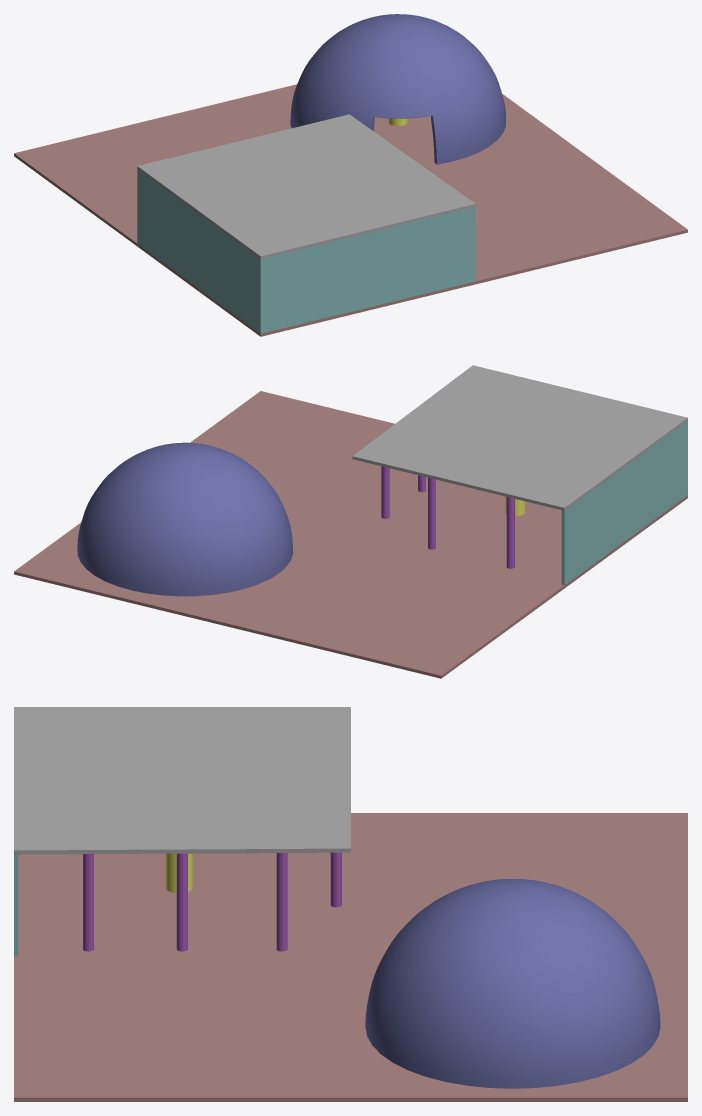
File: MeshTestReflectionProbe.fbx
3 renders of one model, top to bottom at view 1: azimuth 30°, elevation 25°; view 2: azimuth 150°, elevation 25°; view 3: azimuth 270°, elevation 25°, orthographic. The views are drawn at different scales.
Visible parts, largest first — view 1: mFloor_1, mRoof_1, mWalls_1, mDome_1; view 2: mFloor_1, mRoof_1, mDome_1, mWalls_1, mColumns_1; view 3: mFloor_1, mRoof_1, mDome_1, mColumns_1, mColumns_2.
Part boxes in pixels (x1,y1,x2,y2): mFloor_1: [14, 84, 687, 336]; mRoof_1: [137, 114, 475, 259]; mWalls_1: [137, 169, 475, 333]; mDome_1: [290, 14, 505, 164]; mFloor_1: [14, 391, 687, 678]; mRoof_1: [352, 365, 687, 510]; mDome_1: [77, 442, 293, 596]; mWalls_1: [561, 421, 687, 585]; mColumns_1: [381, 466, 514, 568]; mFloor_1: [14, 813, 687, 1101]; mRoof_1: [14, 707, 350, 854]; mDome_1: [365, 879, 660, 1088]; mColumns_1: [83, 852, 341, 951]; mColumns_2: [165, 853, 192, 893].
Size of the model in its own units: 3000 by 677 by 3000.
